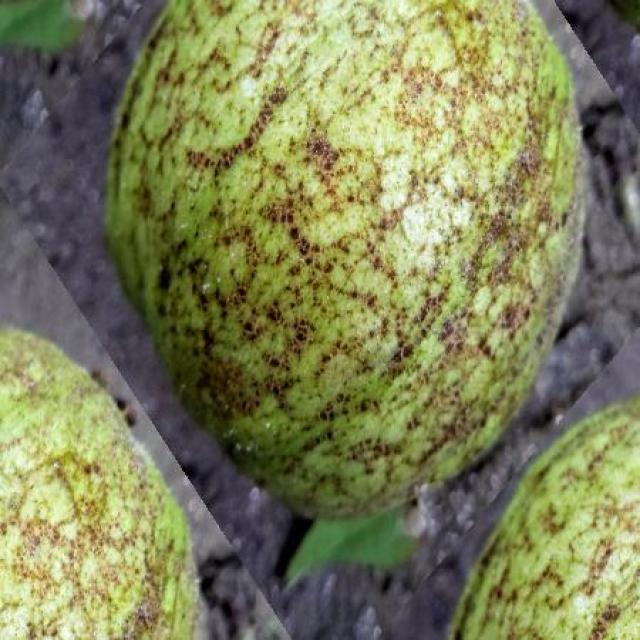Scab: (106, 0, 584, 514), (0, 331, 195, 639)
